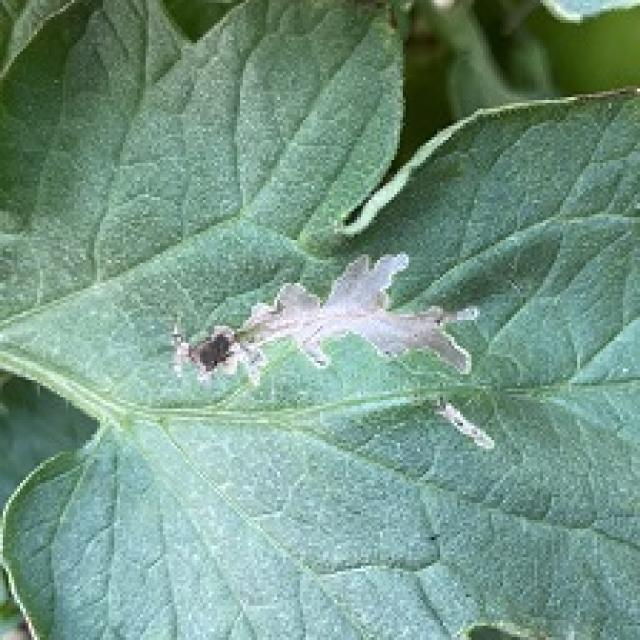Tuta absoluta: (166, 245, 479, 395), (439, 404, 502, 454)
